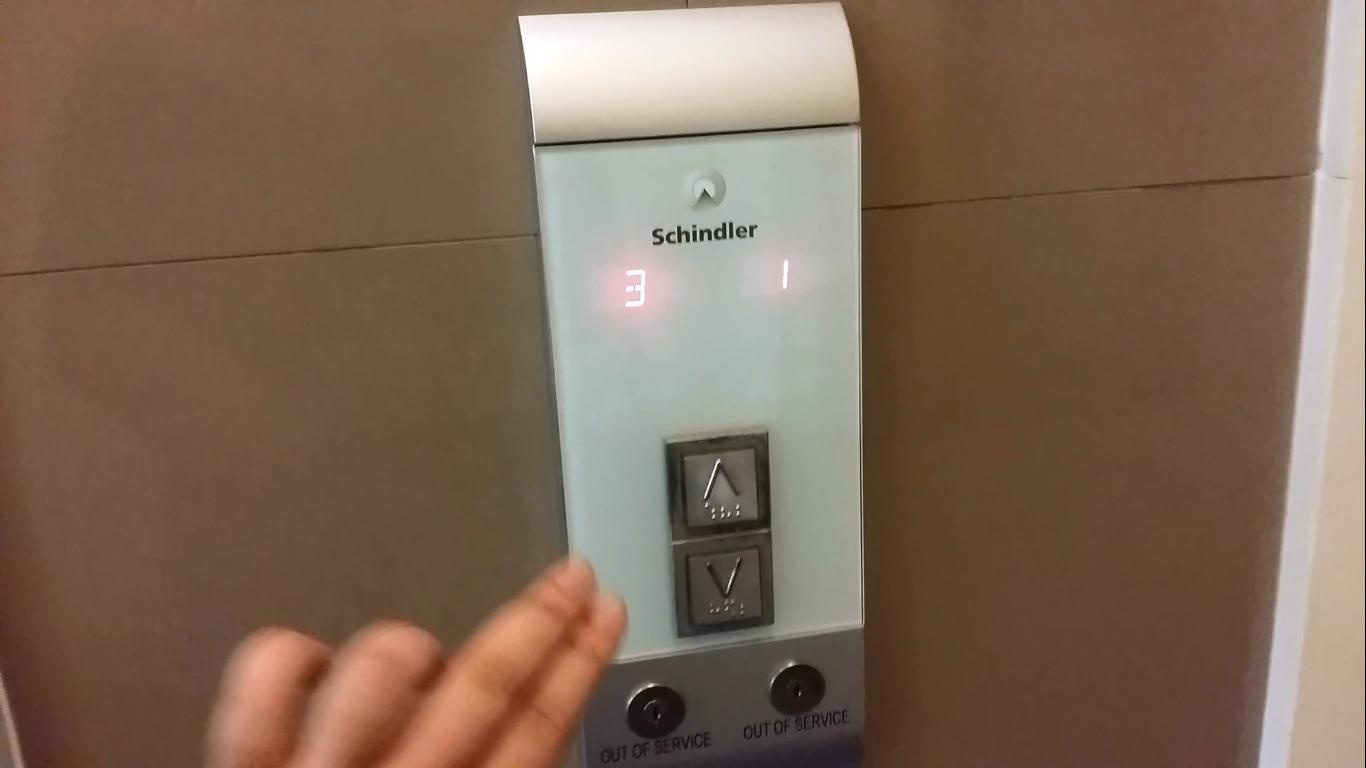down: (668, 529, 777, 642)
keyhole: (619, 681, 691, 741), (765, 657, 828, 719)
up: (658, 422, 780, 544)
